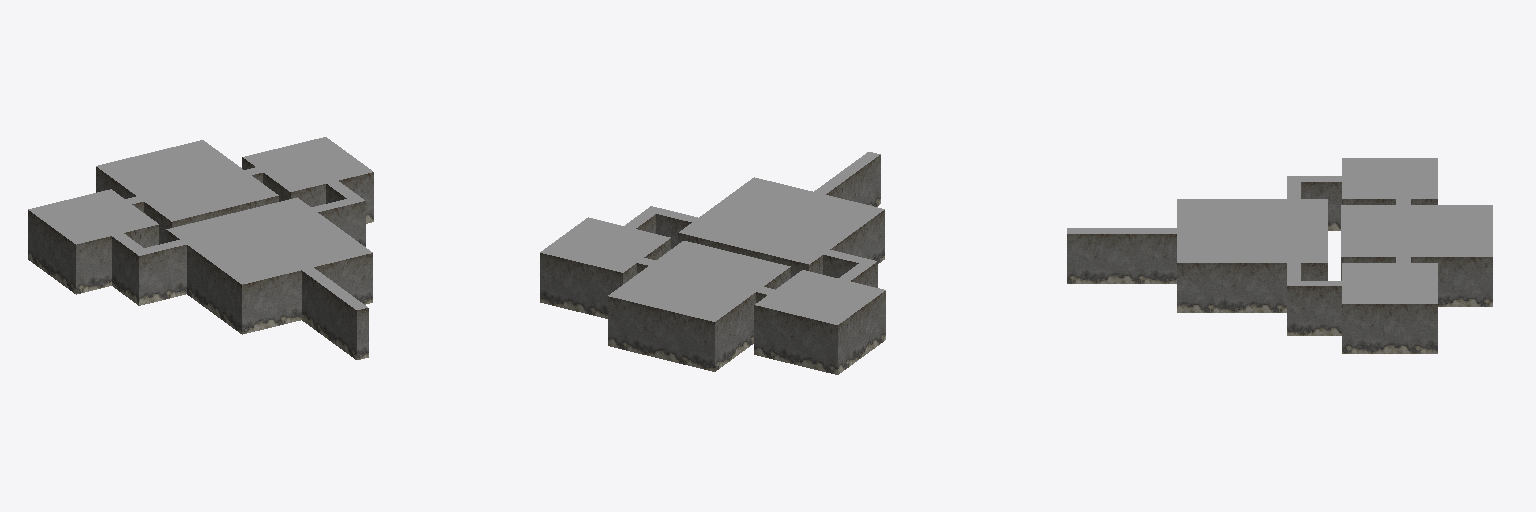
3 views of the same model, side by side, from view 1: azimuth 30°, elevation 25°; view 2: azimuth 150°, elevation 25°; view 3: azimuth 270°, elevation 25° (orthographic).
Parts seen in each view (by area): view 1: Map_Final_Mesh.002; view 2: Map_Final_Mesh.002; view 3: Map_Final_Mesh.002.
Part boxes in pixels (bbox=[...]): Map_Final_Mesh.002: bbox=[28, 137, 373, 359]; Map_Final_Mesh.002: bbox=[540, 152, 885, 374]; Map_Final_Mesh.002: bbox=[1067, 158, 1492, 353].
Bounding box in the file's own units: 25 × 4 × 31.
2 materials, 1 textured.